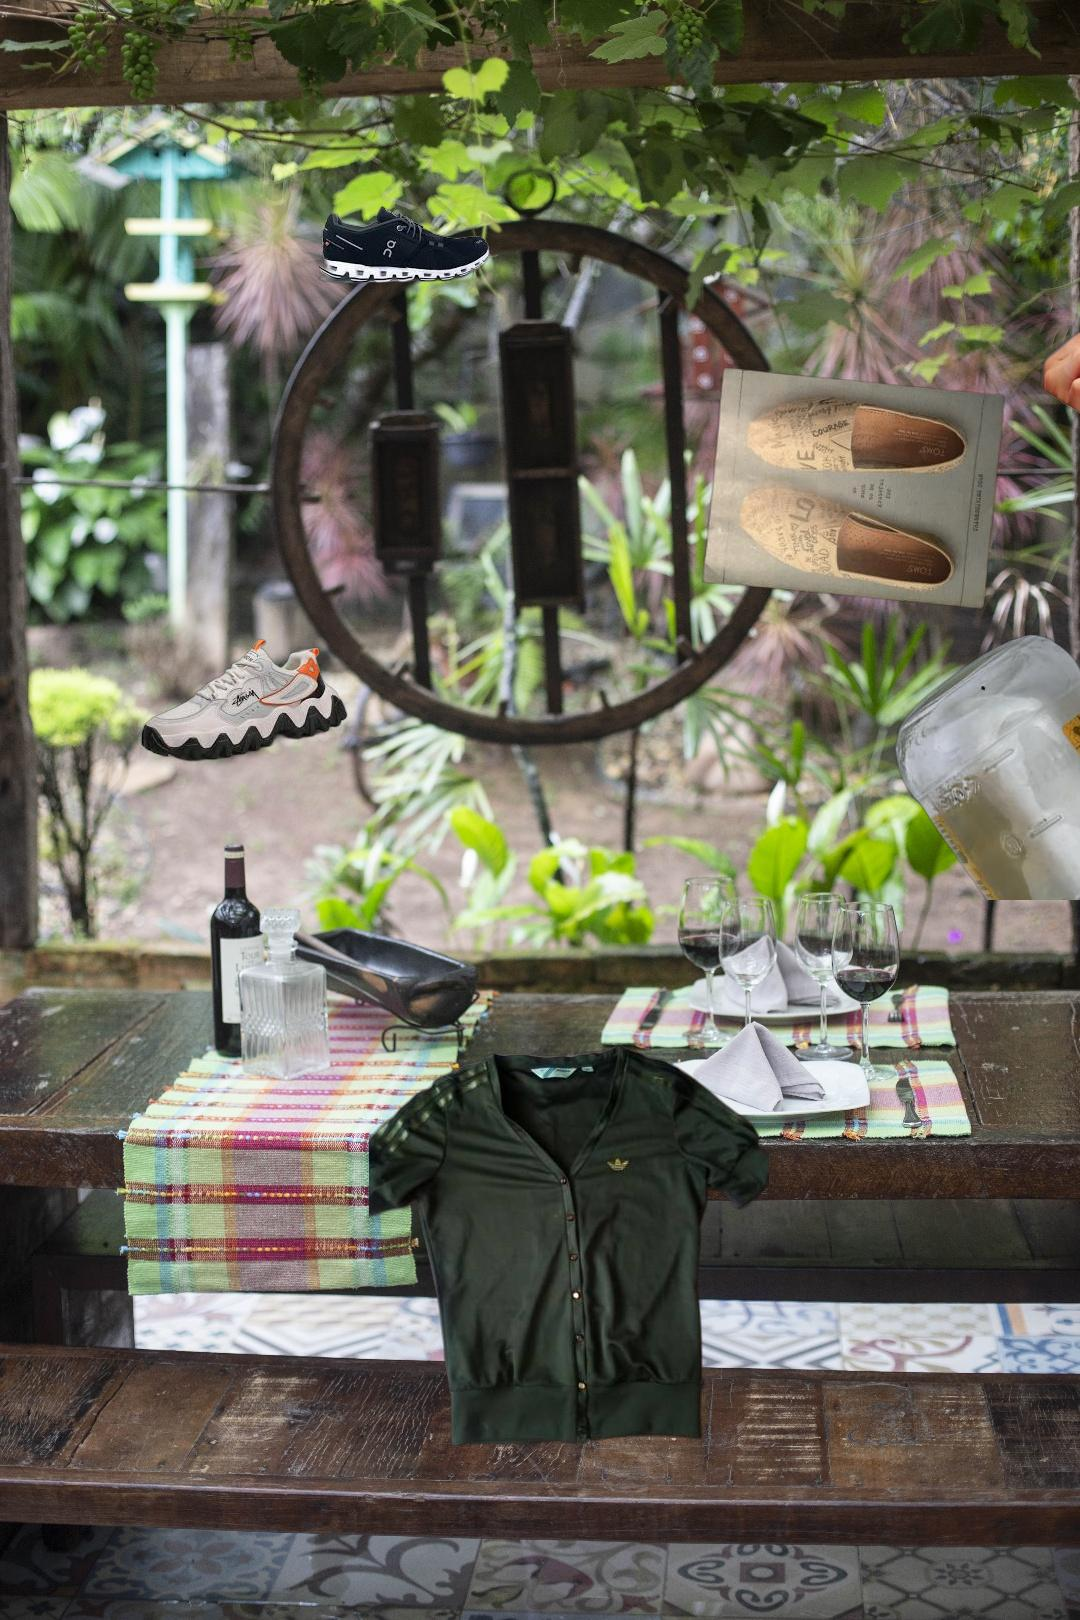clothes: (369, 1040, 769, 1451)
glass: (890, 631, 1080, 900)
paper: (699, 365, 1008, 610)
shoes: (138, 637, 350, 764), (313, 204, 492, 286)
trashbox-cardboard: (866, 306, 1080, 786)
